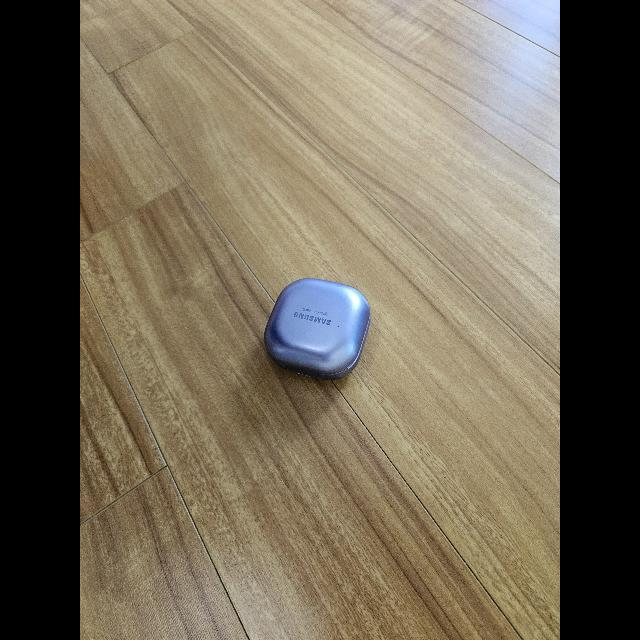buds-pro: (264, 276, 374, 384)
